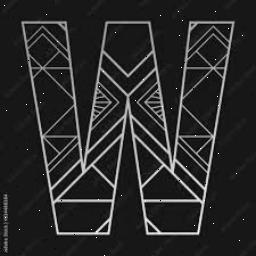w: (10, 8, 246, 242)
